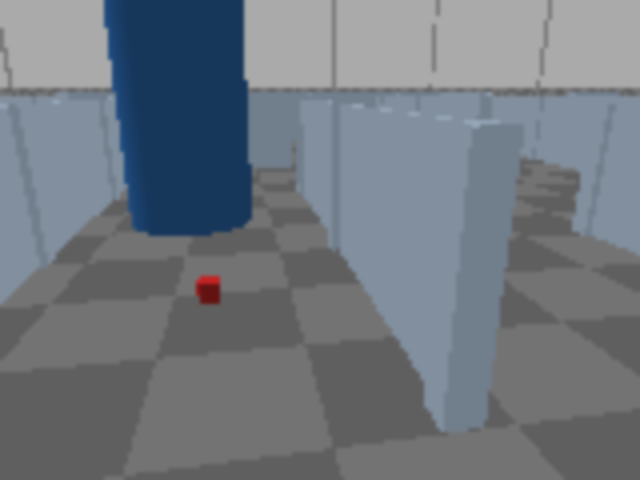puck: (199, 277, 219, 305)
